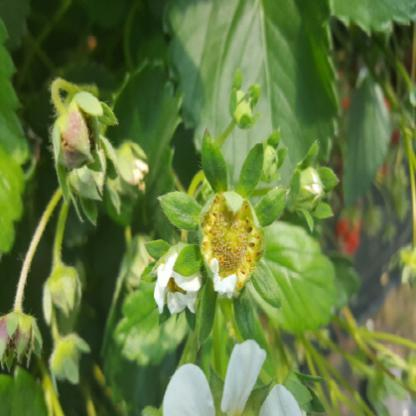Strawberry_Blossom_Blight: (197, 195, 264, 290)
